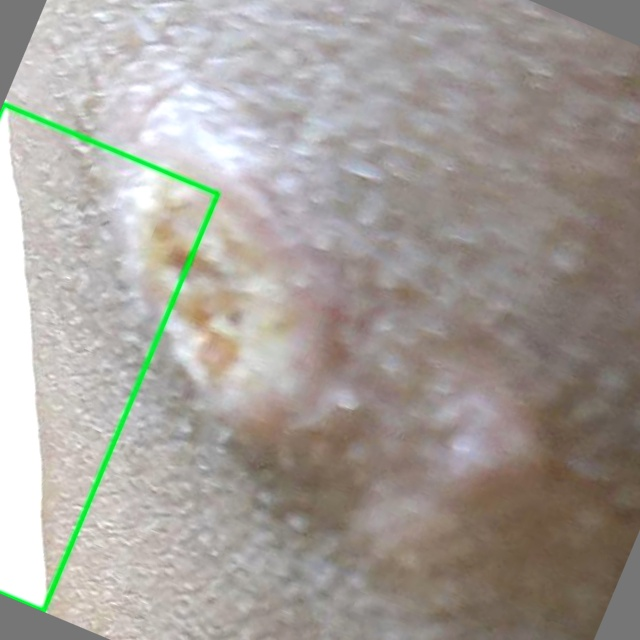Eczema: (0, 104, 218, 610)
